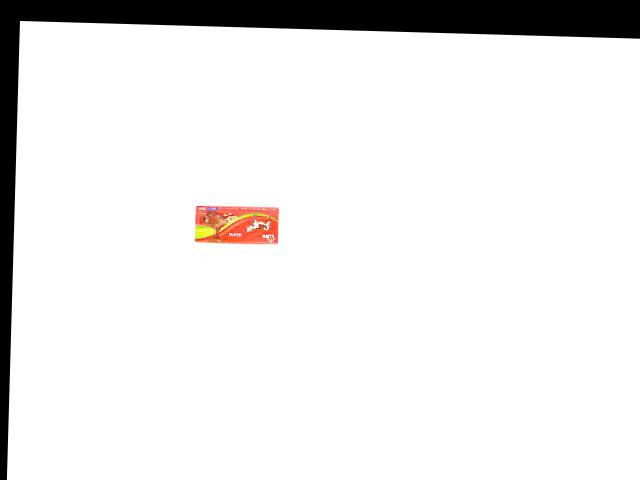chocolate: (193, 197, 284, 247)
